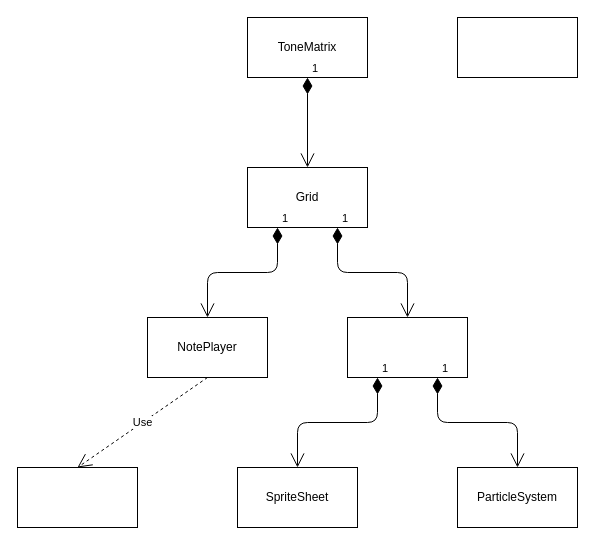
Image size: 595x545. Some labels were removed from this diagram. The centre of each missing label's shape, as x and y in pixels:
"GridRenderer" belongs at point (407, 347).
"Tone.js" belongs at point (77, 497).
"Util" belongs at point (517, 47).
